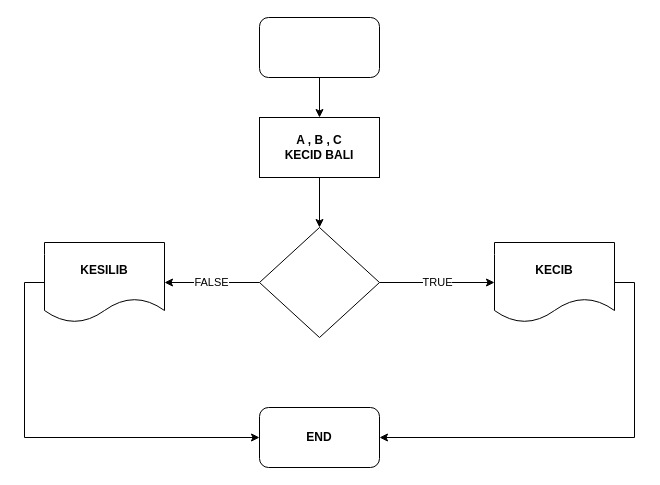
This 660x485 diagram has some shape labels left out. The box of each missing label's shape, as (x1, y1, x2, y2) in pixels:
(A+B+C)/3>60: (258, 226, 380, 338)
START: (258, 16, 380, 78)
